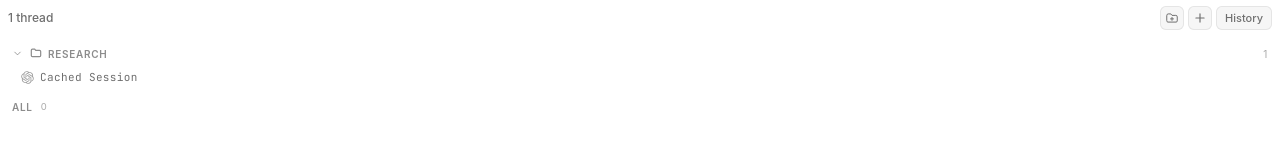
Test: SidebarAgentsPanel folders › collapses a folder and deleting it returns its session to All
Click the button "Research 1" at (78, 54), box [12,47,1268,60]
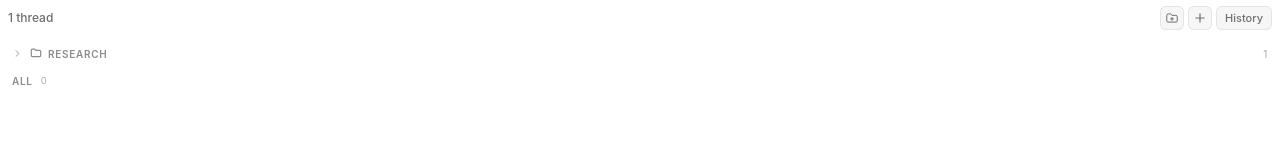
Result: the button "Research 1" is collapsed
Result: the button with class "sidebar-agents-row" is gone
Right-click the button "Research 1" at (78, 54), box [12,47,1268,60]
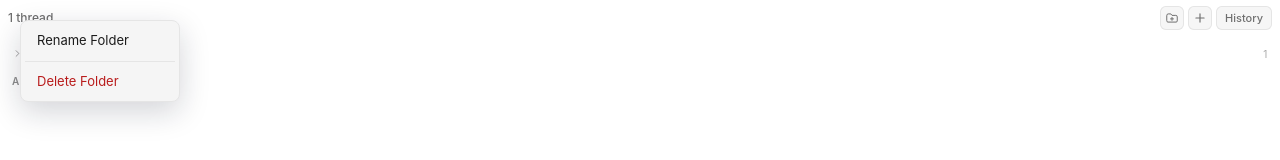
Click the button "Delete Folder" at (100, 81), box [25,66,175,97]
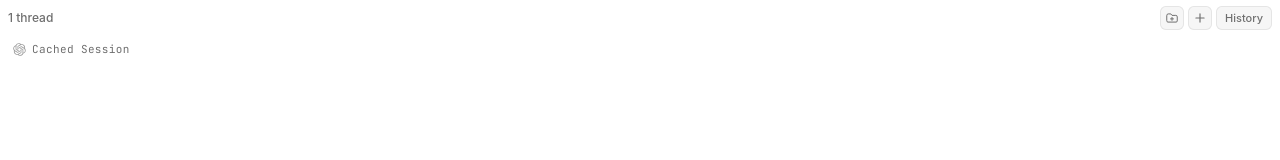
Result: the element showing "Cached Session" is shown at [12,42,130,56]
